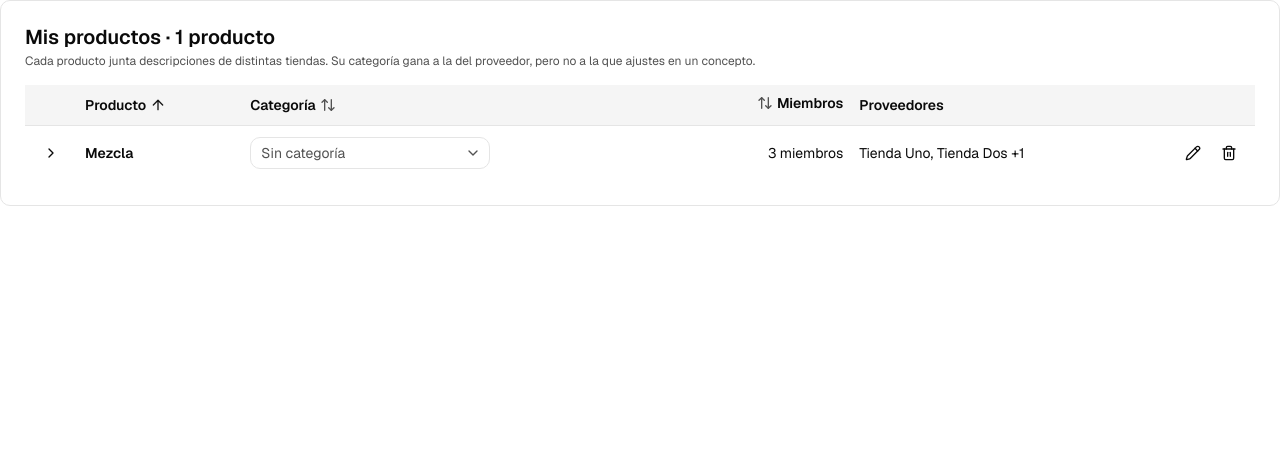
Scenario: members sub-table (D-14) › counts the loaded lines of each member and flags a member with none
This screenshot has width=1280, height=454.
Click the button named "Ver miembros de Mezcla": (51, 153) [33,135,69,171]
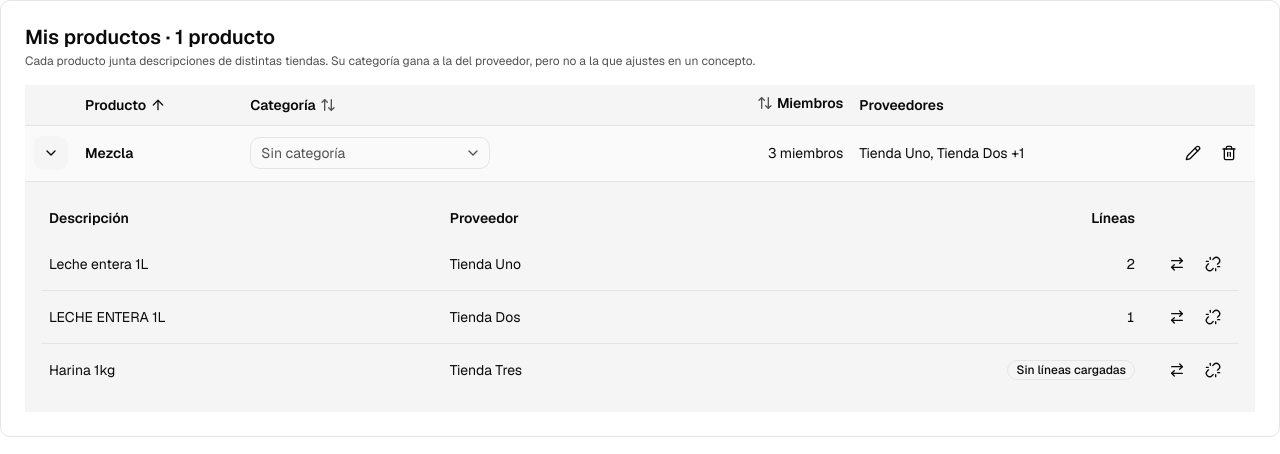
Expected: the text "2" is shown, [709,238,1143,290]
Expected: the text "1" is shown, [709,290,1143,343]
Expected: the text "Sin líneas cargadas" is shown, [1008,360,1135,380]
